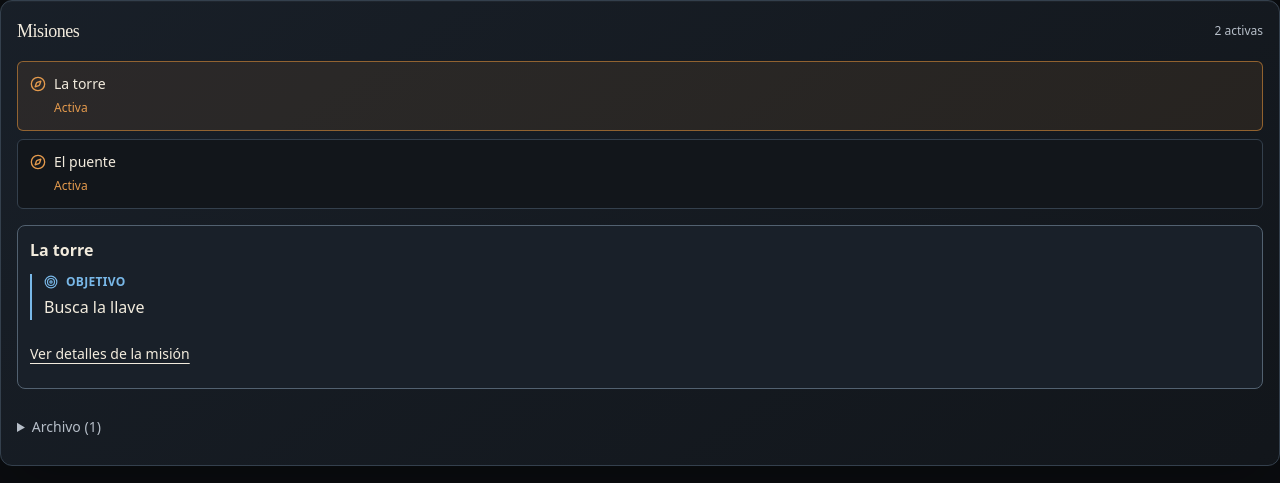
it: quest reading selection › shows one objective, switches selection, and preserves both hook and description
Check: the element named "Misión seleccionada" shows "Busca la llave", box [44,296,144,318]
Click the button "El puente Activa" at (85, 162), box [17,139,1263,209]
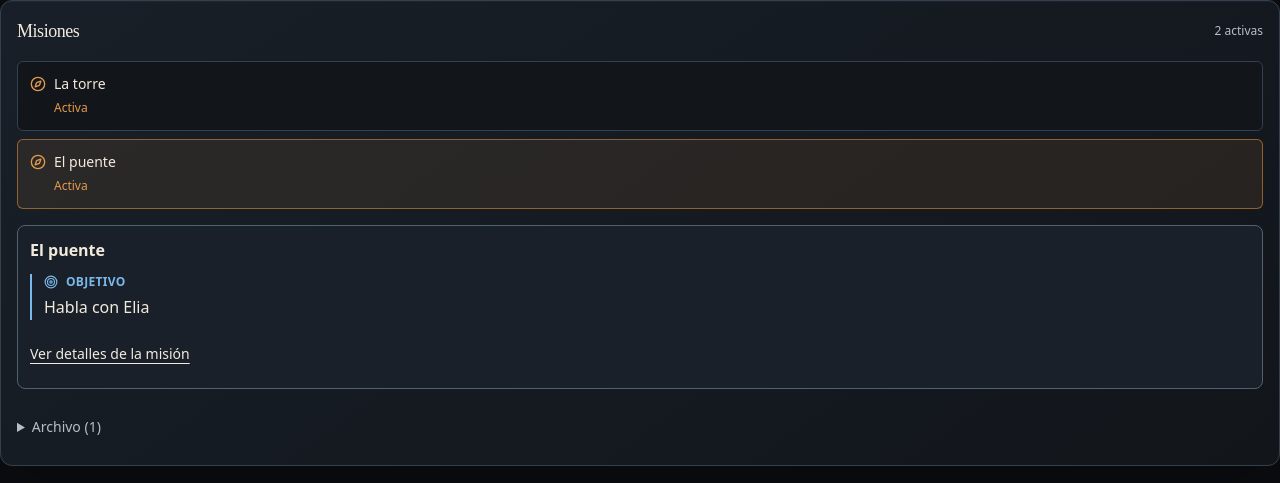
Check: the element named "Misión seleccionada" shows "Habla con Elia", box [44,296,150,318]
Check: the element named "Misión seleccionada" no longer shows "Busca la llave", box [17,225,1263,389]
